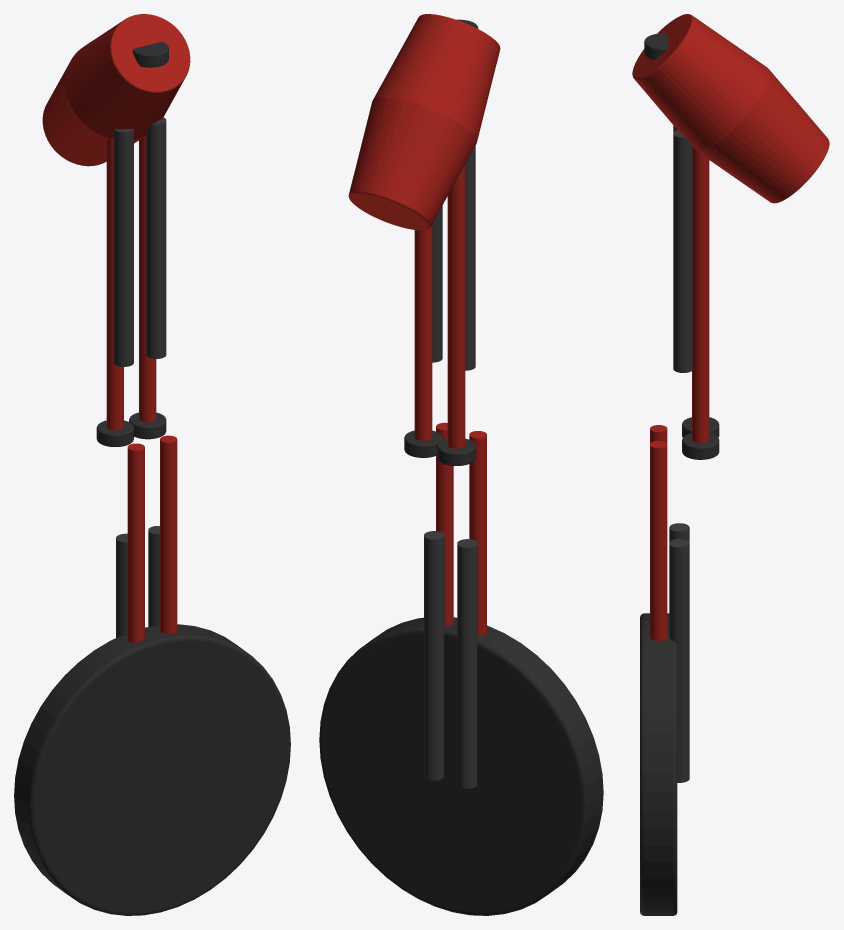
Rendered from Anglepoise_task_lamp.glb.
The picture shows the model from 3 angles, left to right: view 1: azimuth 30°, elevation 25°; view 2: azimuth 150°, elevation 25°; view 3: azimuth 270°, elevation 25°; orthographic projection. The views are drawn at different scales.
Visible parts, largest first — view 1: base, shade, spring.upper_2, spring.upper_1, arm.lower_1, arm.lower_2, arm.upper_1, arm.upper_2, spring.lower_1, spring.lower_2, pivot.elbow_1, pivot.shade (+1 smaller); view 2: base, shade, spring.lower_1, arm.upper_1, spring.lower_2, arm.upper_2, arm.lower_1, spring.upper_1, arm.lower_2, spring.upper_2, pivot.elbow_1, pivot.elbow_2; view 3: shade, base, arm.upper_2, spring.upper_2, spring.lower_2, arm.lower_2, pivot.elbow_2, pivot.shade.
Part boxes in pixels (<box>): base: <box>14,624,290,915</box>; shade: <box>42,14,190,166</box>; spring.upper_2: <box>146,117,166,358</box>; spring.upper_1: <box>114,128,133,366</box>; arm.lower_1: <box>127,443,144,642</box>; arm.lower_2: <box>160,435,177,633</box>; arm.upper_1: <box>106,137,123,430</box>; arm.upper_2: <box>139,136,156,422</box>; spring.lower_1: <box>116,533,127,637</box>; spring.lower_2: <box>148,526,159,626</box>; pivot.elbow_1: <box>96,420,133,446</box>; pivot.shade: <box>132,42,168,67</box>; base: <box>319,617,603,915</box>; shade: <box>348,14,500,230</box>; spring.lower_1: <box>457,539,477,788</box>; arm.upper_1: <box>447,164,465,448</box>; spring.lower_2: <box>424,531,444,780</box>; arm.upper_2: <box>414,224,432,440</box>; arm.lower_1: <box>469,431,486,635</box>; spring.upper_1: <box>465,145,475,370</box>; arm.lower_2: <box>436,422,453,626</box>; spring.upper_2: <box>432,205,442,362</box>; pivot.elbow_1: <box>437,438,475,465</box>; pivot.elbow_2: <box>404,430,442,457</box>; shade: <box>632,14,829,203</box>; base: <box>640,613,677,915</box>; arm.upper_2: <box>692,147,709,442</box>; spring.upper_2: <box>673,130,692,372</box>; spring.lower_2: <box>669,539,689,782</box>; arm.lower_2: <box>650,441,667,641</box>; pivot.elbow_2: <box>682,433,719,459</box>; pivot.shade: <box>644,33,668,59</box>.
Bounding box in the file's own units: 0.21 × 0.675 × 0.1367.
